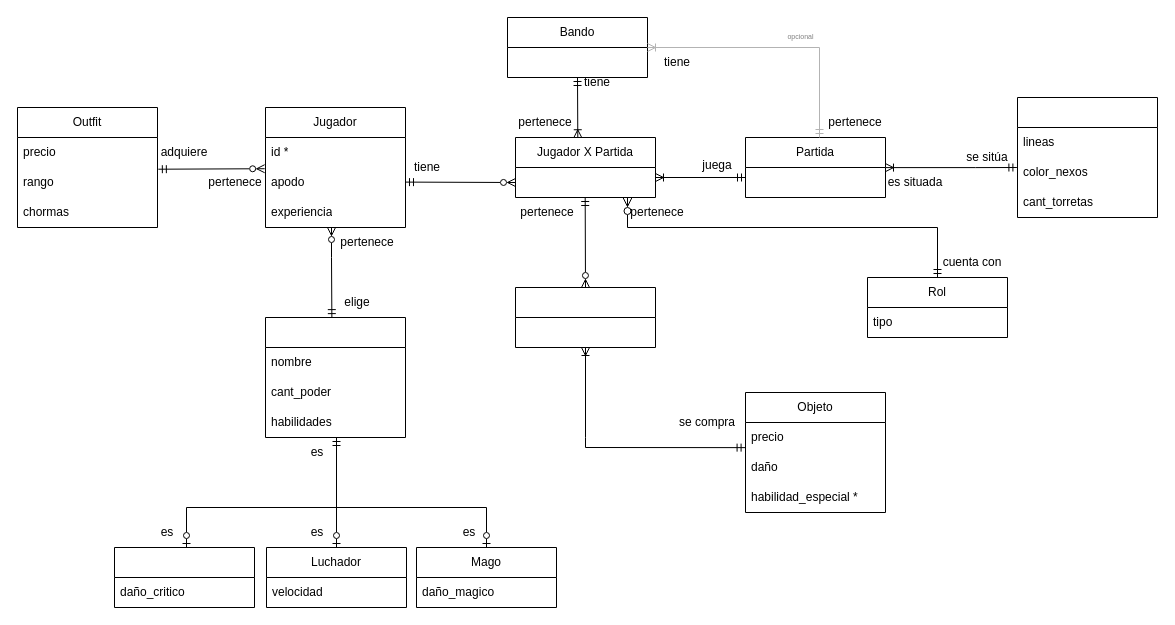
The diagram is 1175 pixels wide and 625 high, and some of its shapes have lost their labels. Each missing label, with the box of its shape:
Asesino: (114, 546, 254, 608)
Campeón: (264, 316, 406, 438)
Mapa: (1016, 96, 1158, 218)
Objeto x Partida x Jugador: (514, 286, 656, 348)
